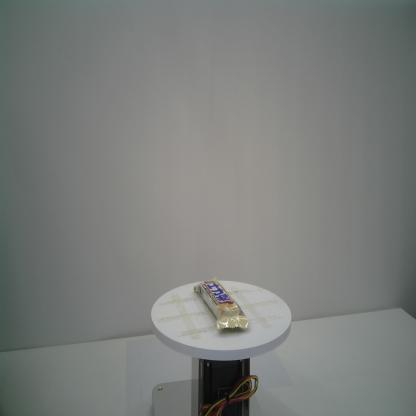Chocolate: (193, 274, 250, 333)
